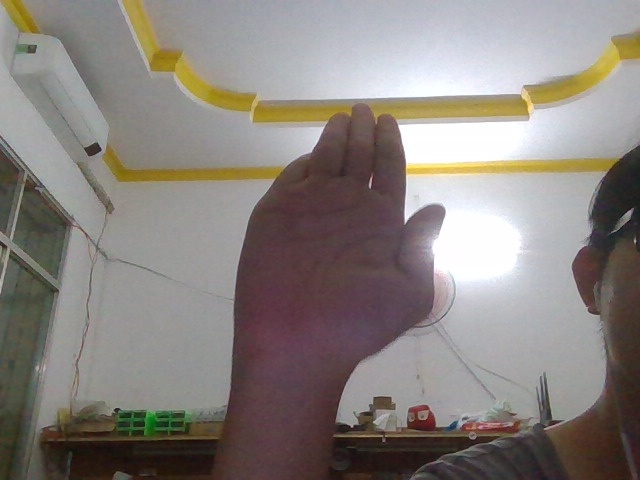stop: (219, 79, 453, 389)
